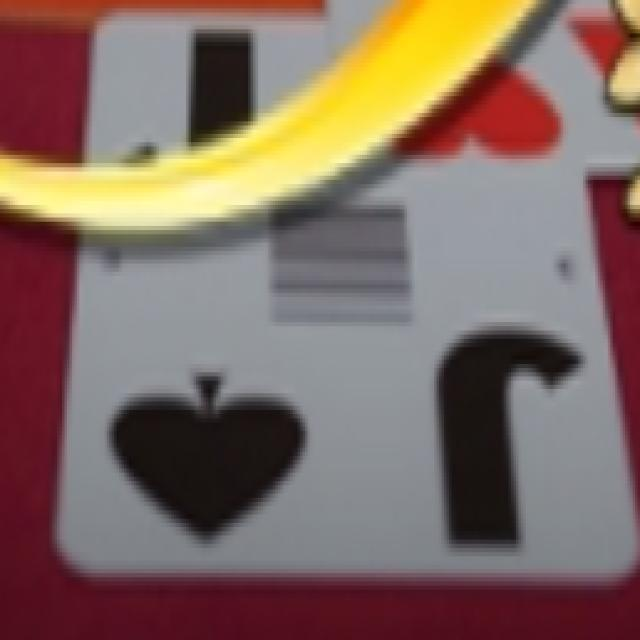Card-J: (54, 15, 636, 576)
